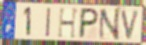1: (23, 6, 33, 38)
H: (57, 7, 81, 40)
I: (45, 6, 52, 39)
N: (97, 8, 122, 42)
P: (77, 7, 100, 40)
V: (120, 9, 142, 42)
